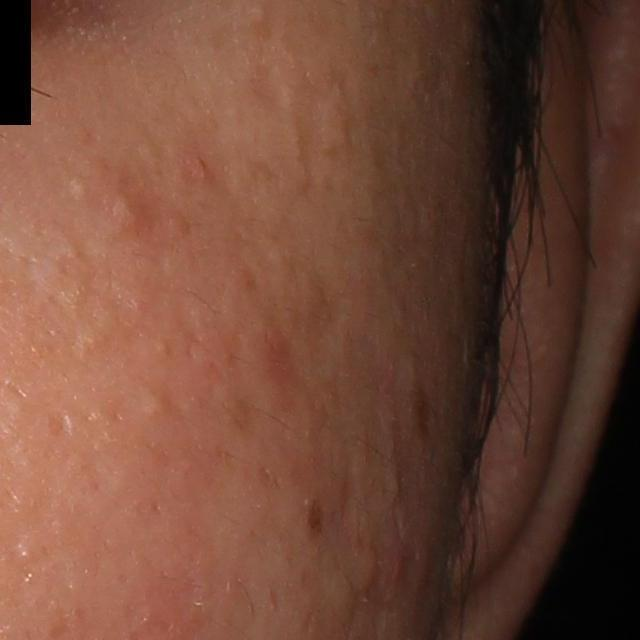atrophic_scar: (46, 410, 72, 440)
comedo: (15, 545, 37, 565), (250, 3, 269, 24)
nevus: (307, 501, 322, 537)
papule: (257, 321, 293, 392), (112, 198, 146, 230), (183, 152, 216, 183)
